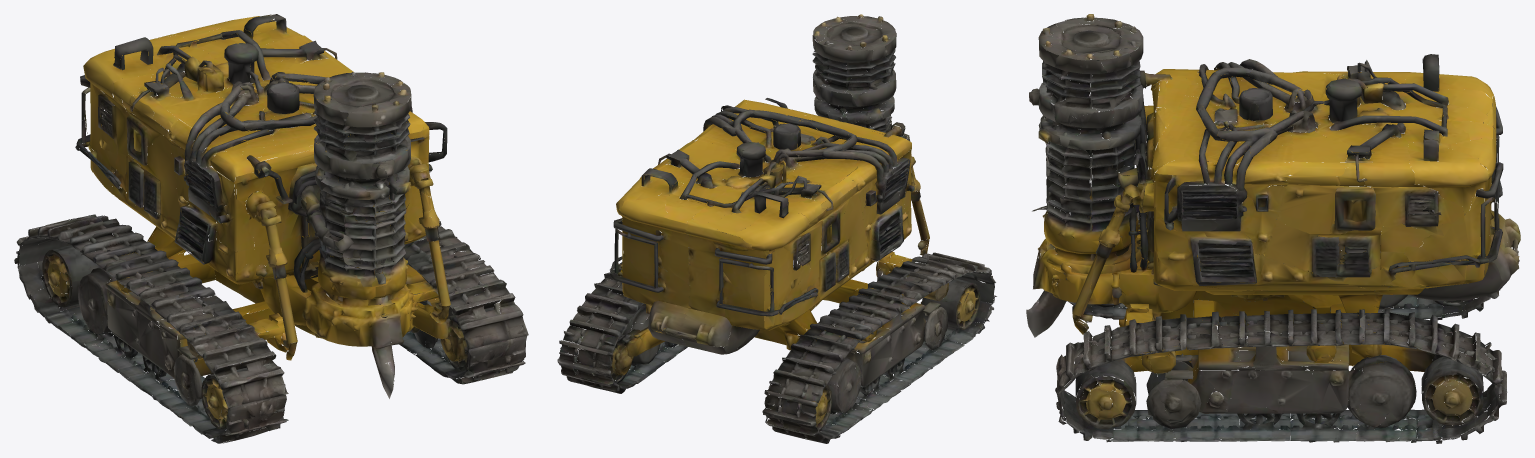
Rendered from crawler-v3.glb.
3 views of the same model, side by side, from view 1: azimuth 30°, elevation 25°; view 2: azimuth 150°, elevation 25°; view 3: azimuth 270°, elevation 25° (orthographic). The views are drawn at different scales.
Visible parts, largest first — view 1: tripo_node_f7d39b47-4151-4db3-8219-232d08e8216c; view 2: tripo_node_f7d39b47-4151-4db3-8219-232d08e8216c; view 3: tripo_node_f7d39b47-4151-4db3-8219-232d08e8216c.
Boxes of the visible parts, x1=… form: tripo_node_f7d39b47-4151-4db3-8219-232d08e8216c: x1=14, y1=14, x2=528, y2=443; tripo_node_f7d39b47-4151-4db3-8219-232d08e8216c: x1=557, y1=14, x2=996, y2=443; tripo_node_f7d39b47-4151-4db3-8219-232d08e8216c: x1=1026, y1=14, x2=1520, y2=443.
Bounding box in the file's own units: 0.7464 × 0.7504 × 0.9988.
1 material, 1 textured.
